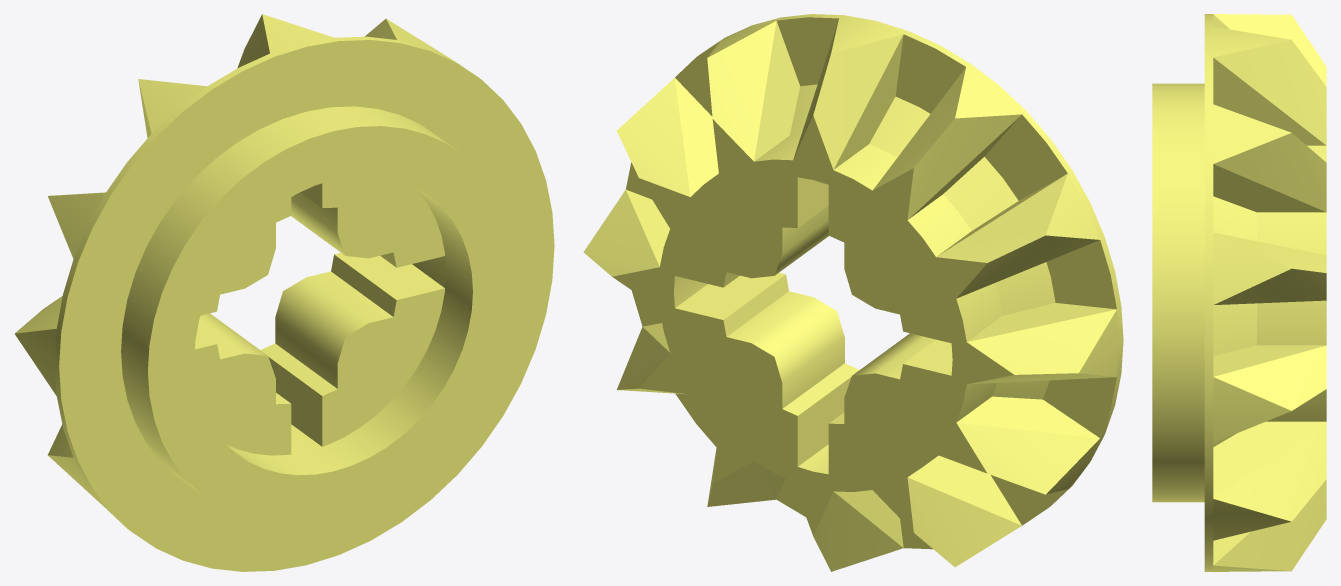
3 renders of one model, left to right at view 1: azimuth 30°, elevation 25°; view 2: azimuth 150°, elevation 25°; view 3: azimuth 270°, elevation 25°, orthographic. The views are drawn at different scales.
Parts seen in each view (by area): view 1: 6589.dat; view 2: 6589.dat; view 3: 6589.dat.
Part boxes in pixels (x1,y1,x2,y2): 6589.dat: [14, 14, 554, 571]; 6589.dat: [583, 14, 1123, 571]; 6589.dat: [1152, 14, 1326, 571].
Size of the model in its own units: 0.0128 by 0.0128 by 0.004.
